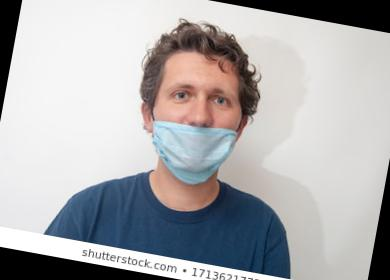mask_weared_incorrect: (145, 62, 249, 184)
